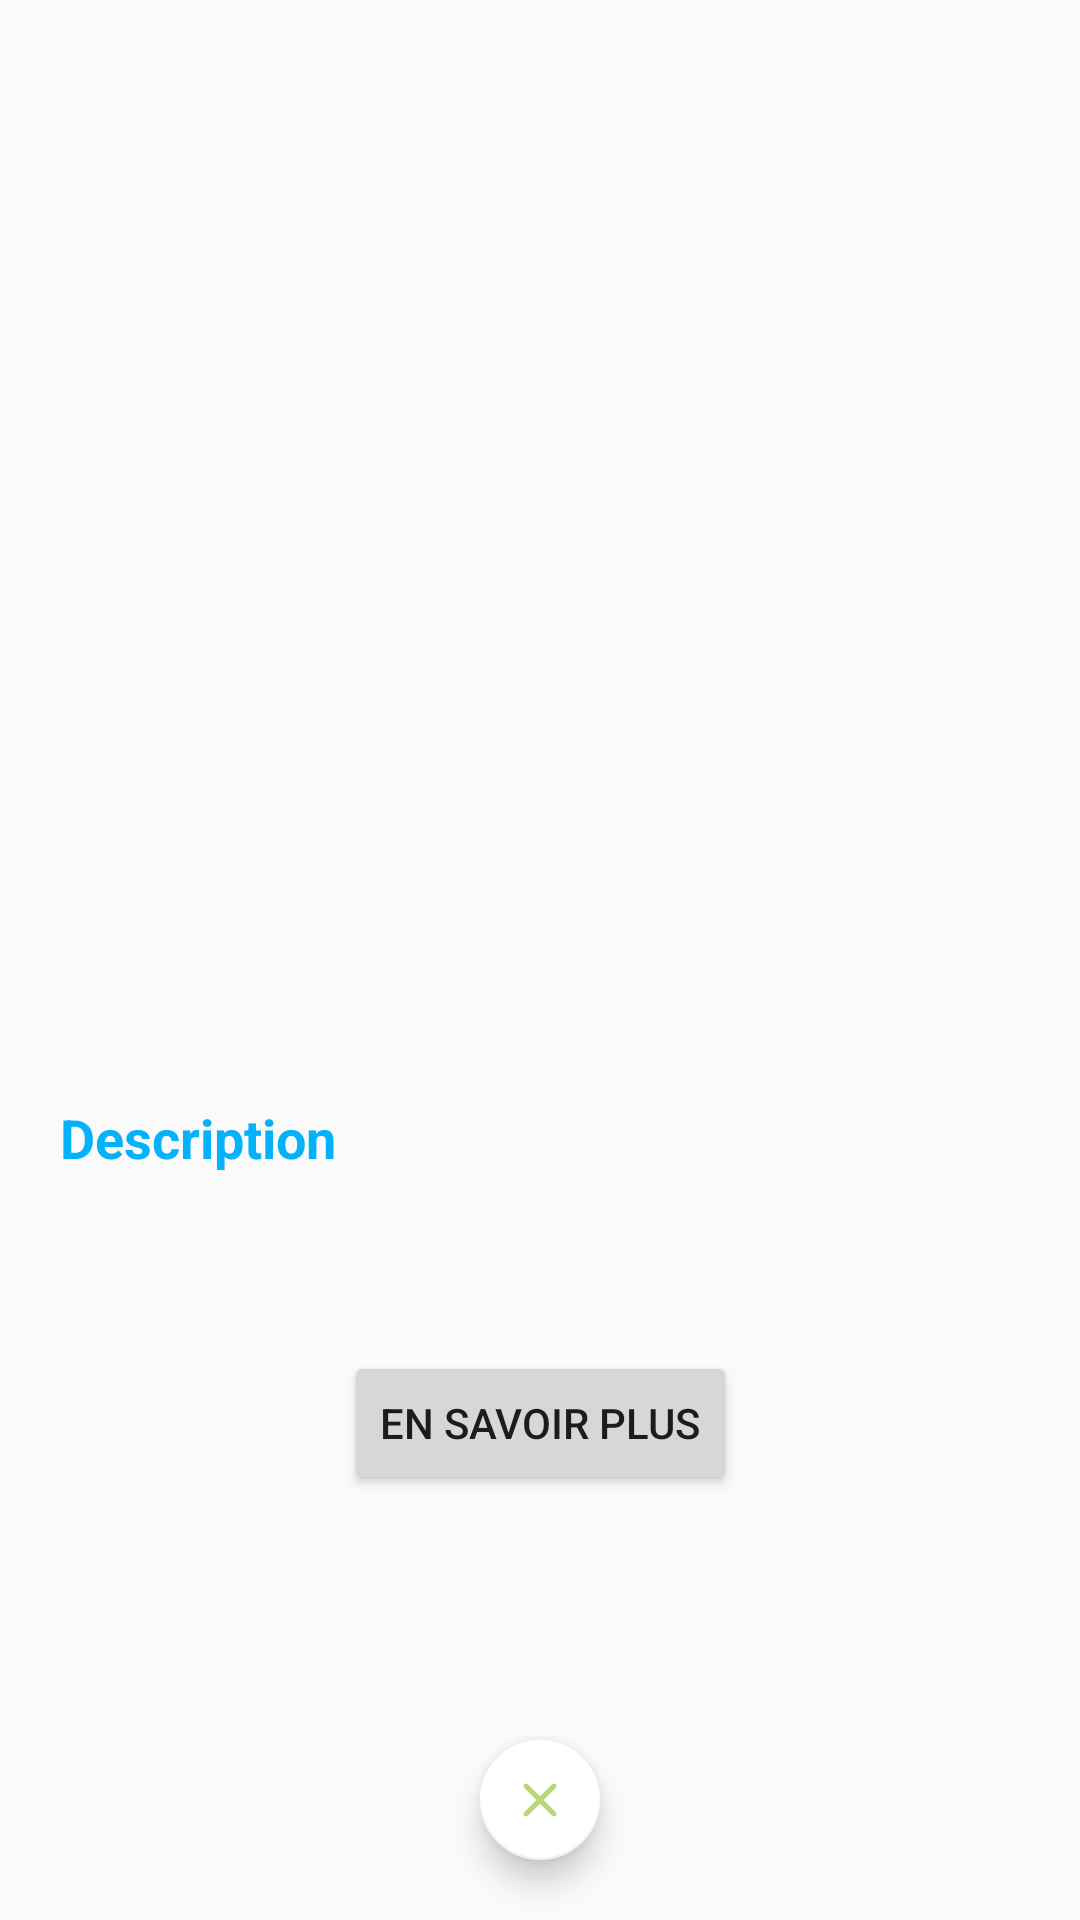

Icons on this 1080 × 1920 Android screen, each with the point to tap as point (x, y):
close: point (540, 1821)
